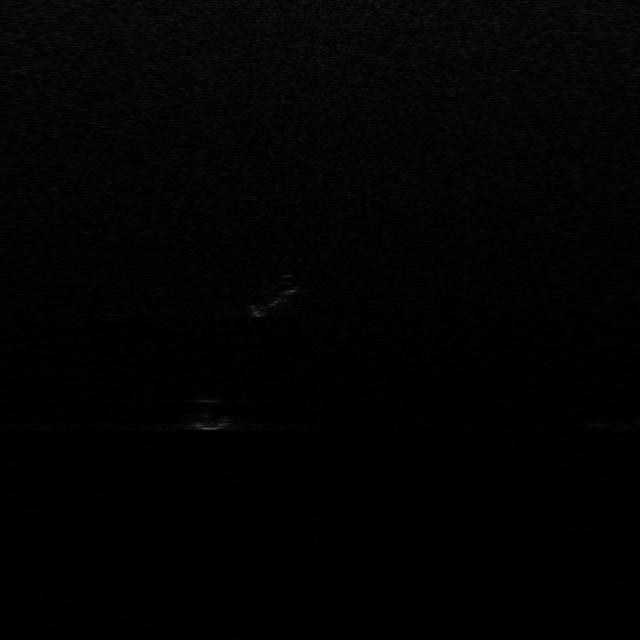ball: (178, 395, 233, 430)
tyre: (247, 280, 301, 319)
